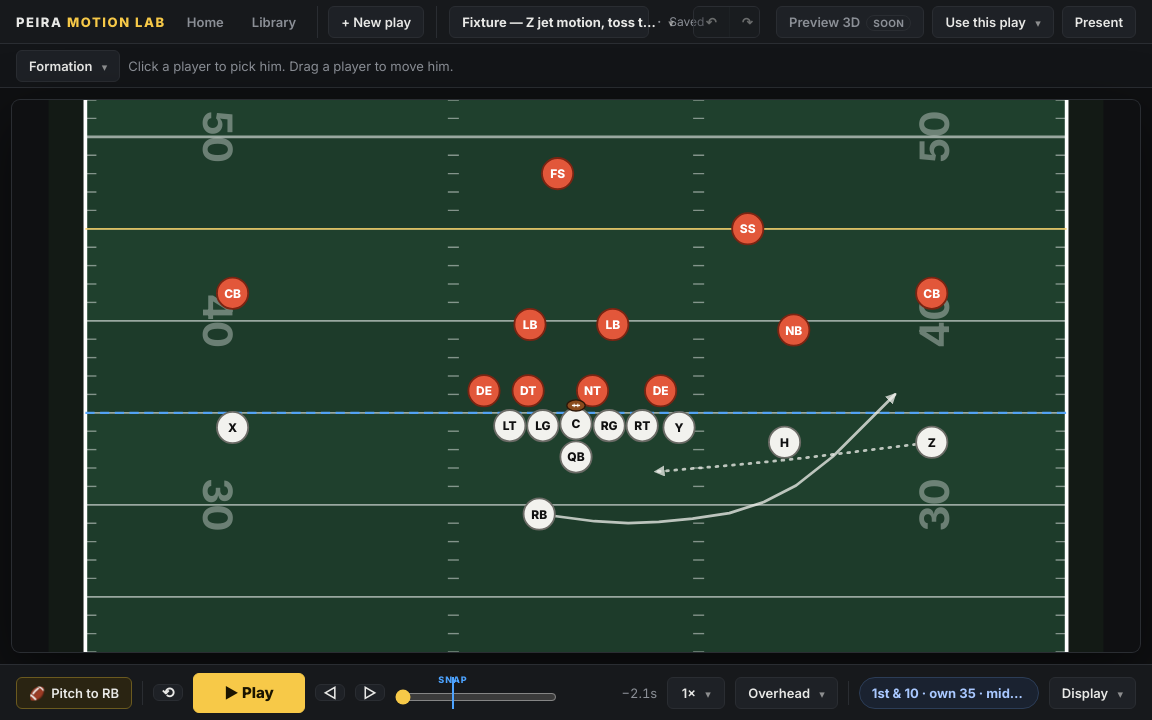
it: Use this play: into this week's install › adds the saved play to an install by reference, and says it is in
Click the button "Use this play ▾" at (993, 22), box left=932, top=6, right=1054, bottom=38
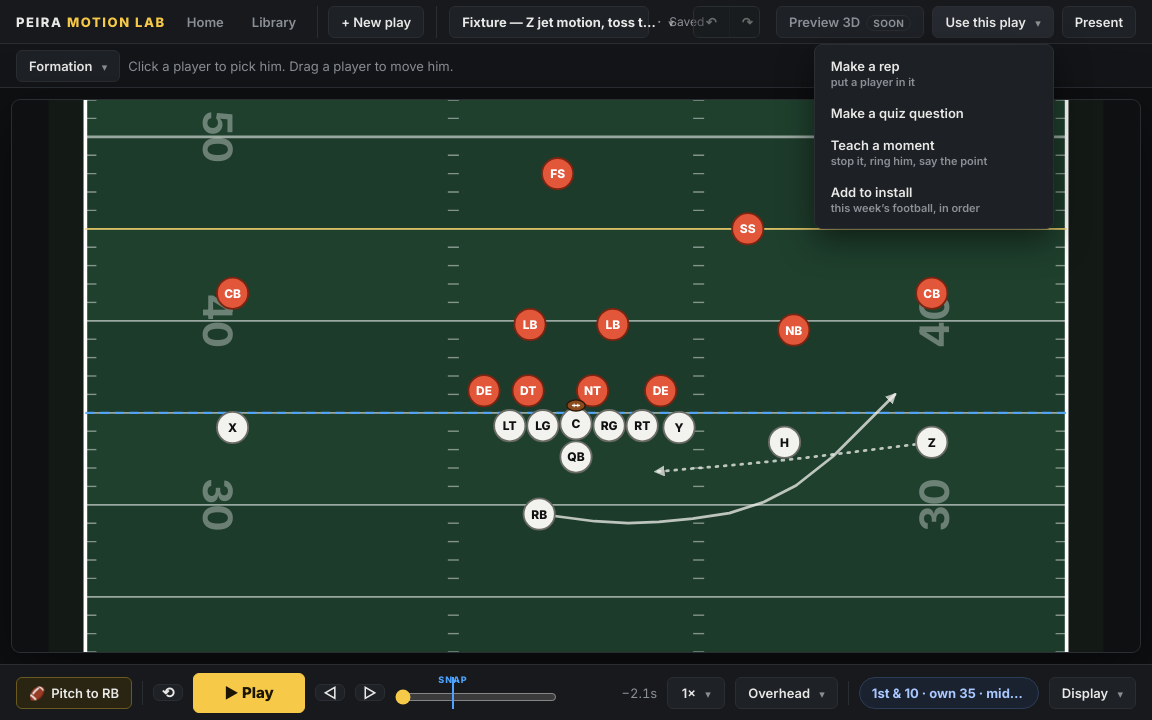
Click the menu item "Add to install this week’s football, in order" at (934, 199), box left=821, top=176, right=1047, bottom=222
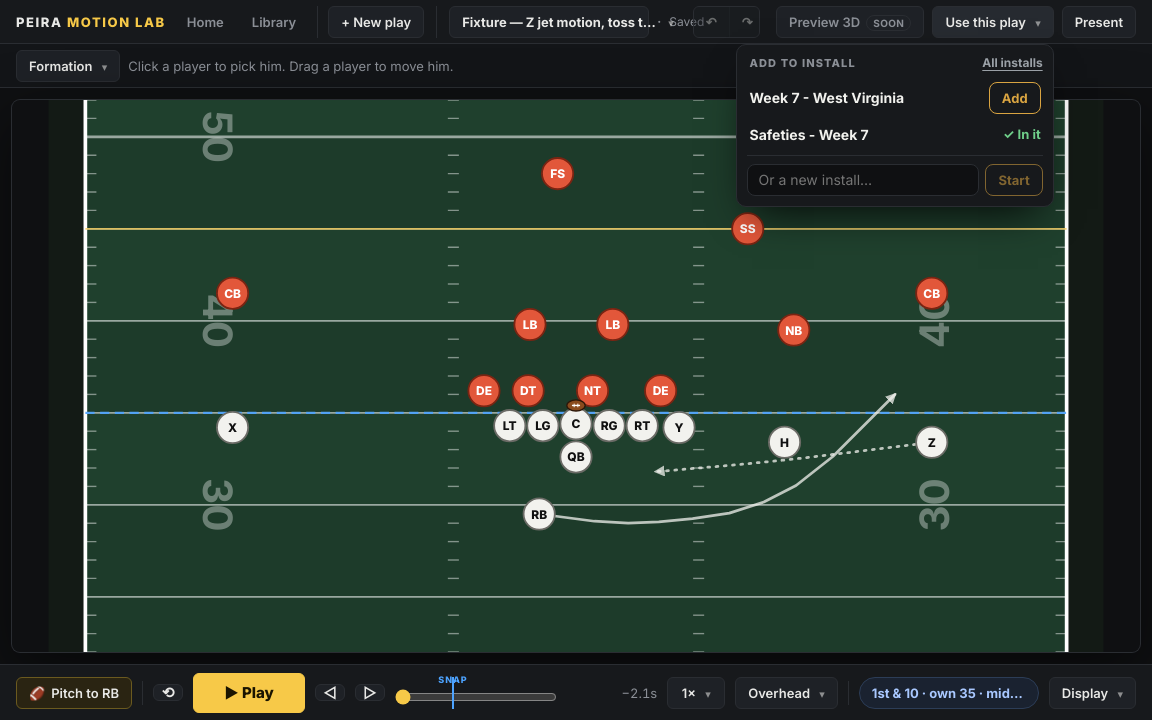
Expected: the text "Week 7 - West Virginia" is shown, left=750, top=89, right=904, bottom=106
Click the button "Add" at (1015, 98), box left=989, top=82, right=1041, bottom=114
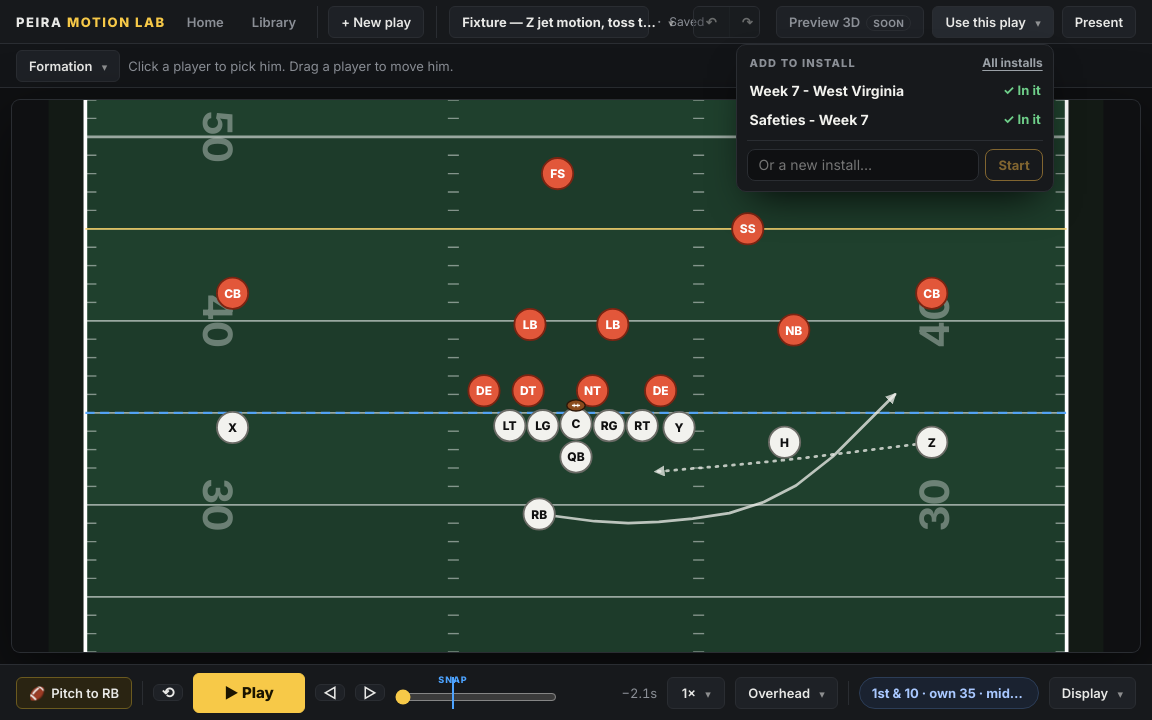
Expected: the number of links "✓ In it" is 2, left=1003, top=82, right=1041, bottom=98; left=1003, top=111, right=1041, bottom=127
